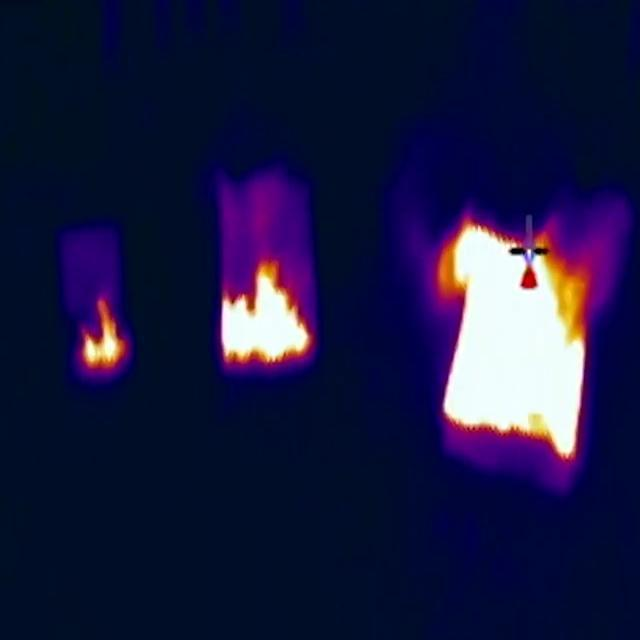fire: (442, 217, 590, 464), (219, 259, 314, 375), (80, 289, 133, 377)
